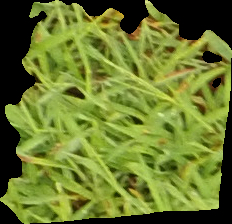grass: (1, 1, 229, 223)
